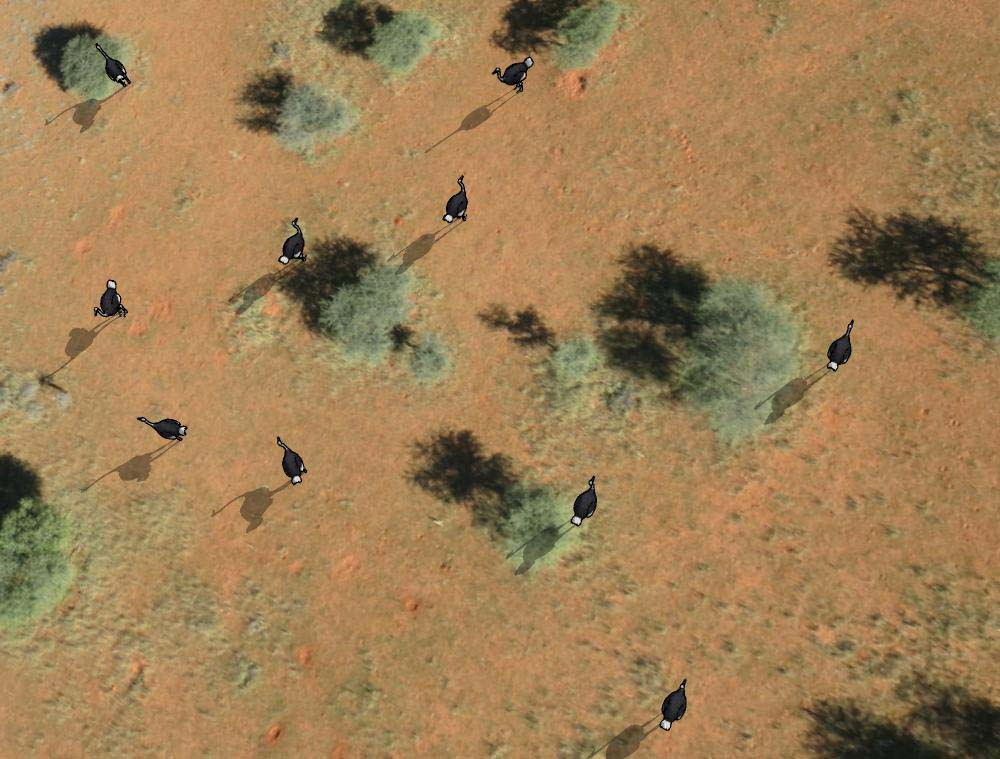springbok: (269, 218, 317, 264), (438, 174, 476, 228), (273, 433, 311, 487), (90, 42, 133, 87), (92, 278, 135, 321), (491, 55, 537, 95), (657, 680, 690, 734), (569, 473, 601, 528), (137, 411, 192, 442), (826, 318, 856, 373)
